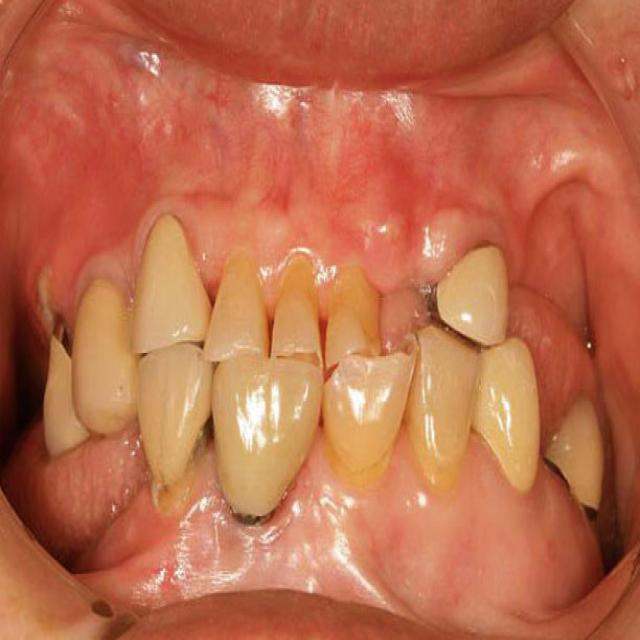caries: (146, 455, 199, 528), (226, 487, 284, 539), (44, 309, 74, 366), (578, 490, 603, 535)
